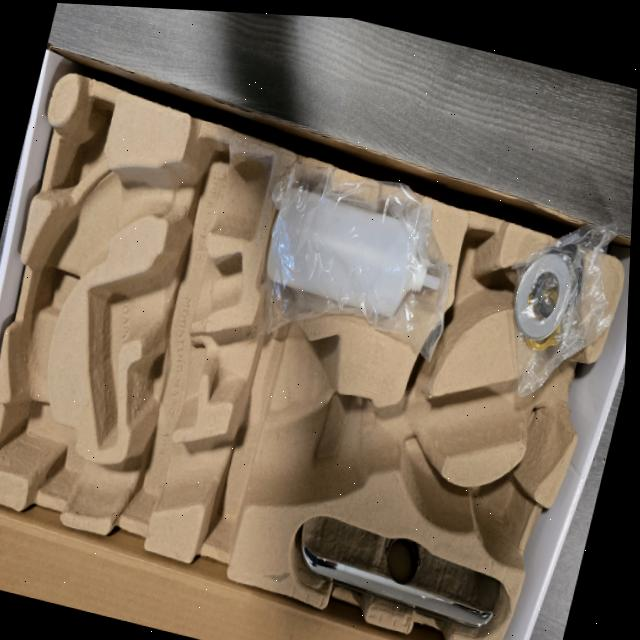1m: (9, 160, 589, 514)
2m: (88, 255, 241, 448)
3: (264, 183, 446, 316)
4: (298, 518, 502, 629)
5m: (472, 478, 526, 554)
6: (511, 215, 617, 396)
7m: (438, 231, 511, 348)
